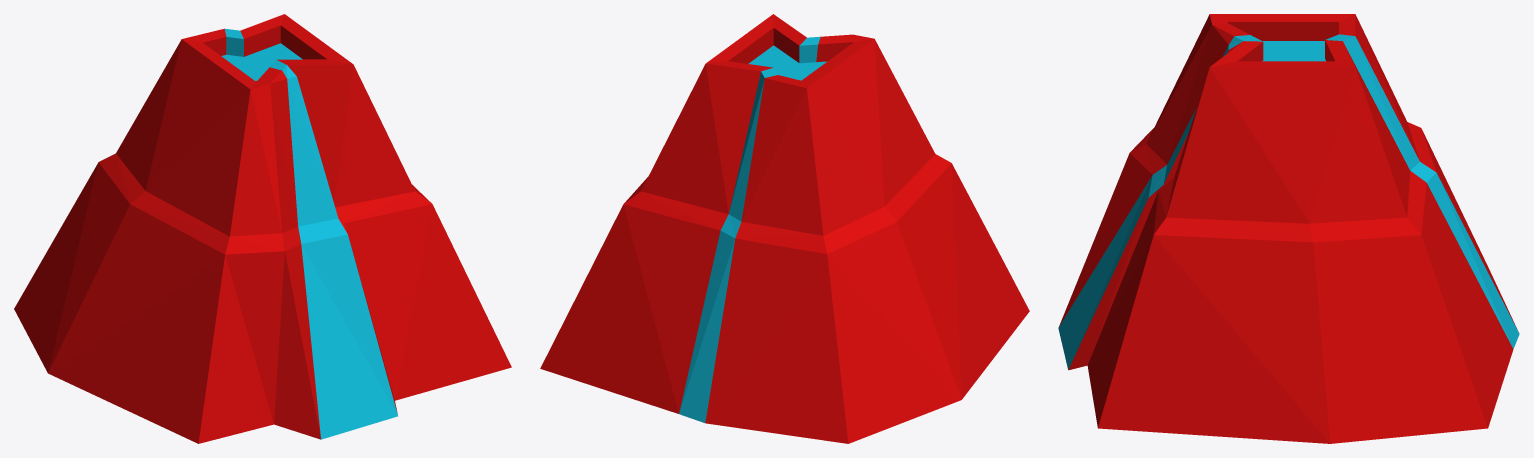
Rendered from Volcan.FBX.
The picture shows the model from 3 angles, left to right: view 1: azimuth 30°, elevation 25°; view 2: azimuth 150°, elevation 25°; view 3: azimuth 270°, elevation 25°; orthographic projection. The views are drawn at different scales.
Parts seen in each view (by area): view 1: Box011; view 2: Box011; view 3: Box011.
Boxes of the visible parts, <box> form: Box011: <box>14,14,511,443</box>; Box011: <box>540,14,1029,443</box>; Box011: <box>1058,14,1519,443</box>.
Bounding box in the file's own units: 0.2583 × 0.1912 × 0.254.
